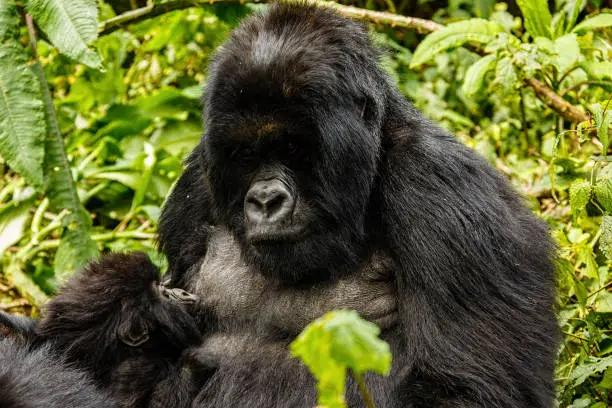goriile_montagne: (141, 0, 567, 408), (0, 215, 202, 408)
